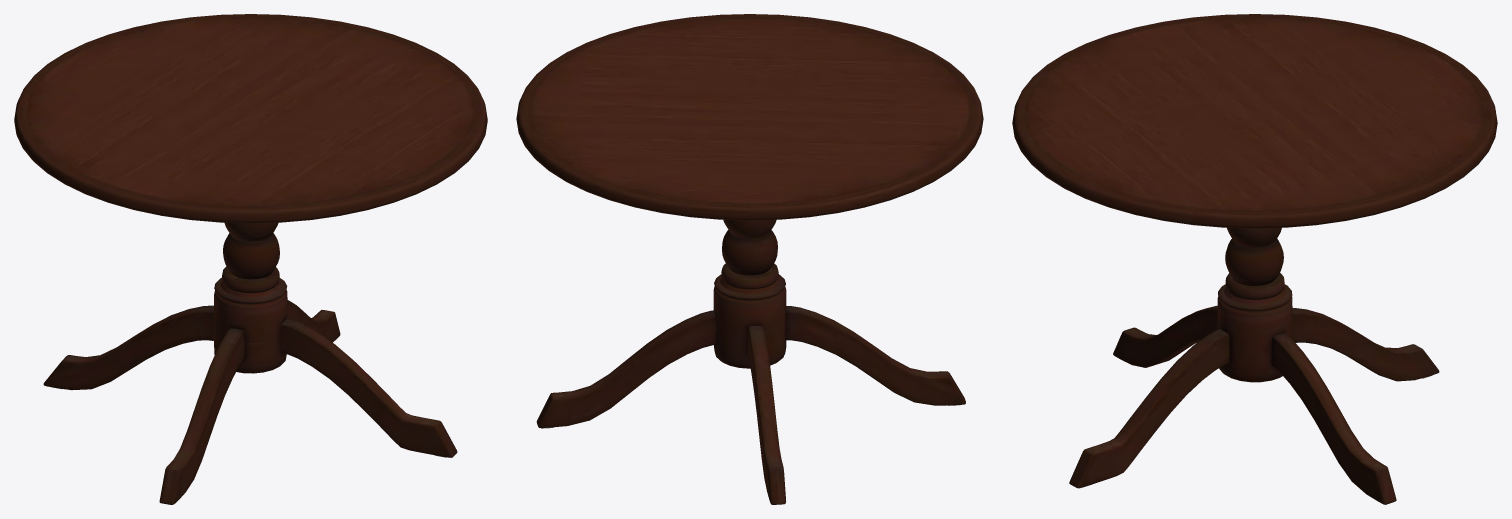
Rendered from round_wooden_table_01.glb.
The picture shows the model from 3 angles, left to right: view 1: azimuth 30°, elevation 25°; view 2: azimuth 150°, elevation 25°; view 3: azimuth 270°, elevation 25°; orthographic projection. The views are drawn at different scales.
Parts seen in each view (by area): view 1: round_wooden_table_01; view 2: round_wooden_table_01; view 3: round_wooden_table_01.
Part boxes in pixels (box(x1,y1,x2,y2)): round_wooden_table_01: box(14, 14, 487, 504); round_wooden_table_01: box(516, 14, 983, 504); round_wooden_table_01: box(1012, 14, 1497, 504).
Bounding box in the file's own units: 1 × 0.7182 × 1.
Materials: 1 (1 with a texture image).
